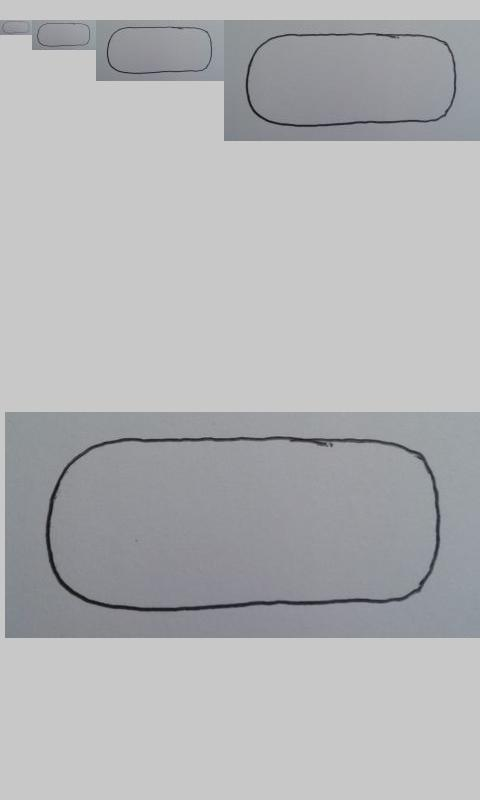chip: (44, 435, 442, 613), (245, 33, 457, 128), (107, 26, 213, 74), (37, 22, 91, 47), (2, 21, 31, 34)
